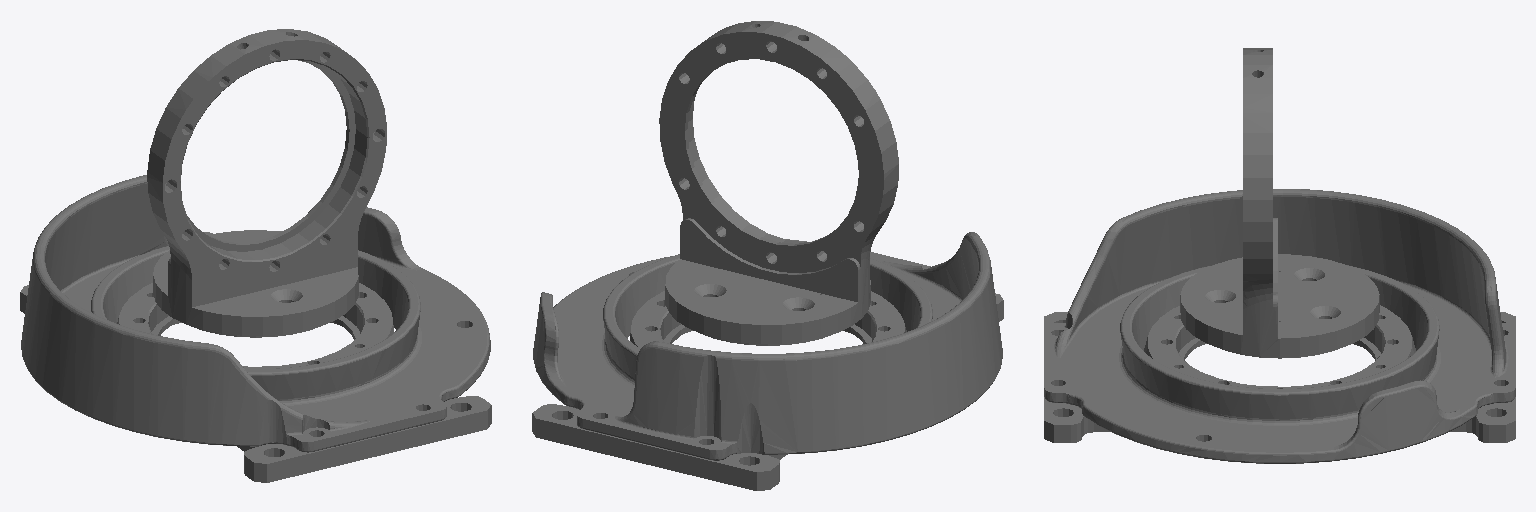
The robot description file, URDF, robot "astribot_head":
<?xml version="1.0" encoding="utf-8"?>
<robot
  name="astribot_head">
  <mujoco>
    <compiler meshdir="./meshes/" balanceinertia="true" discardvisual="false" />
  </mujoco>
  <material name="grey">
    <color rgba="0.5 0.5 0.5 1" />
  </material>
  <link
    name="astribot_head_base_link">
    <inertial>
      <origin
        xyz="-0.00115 0.00054 0.035304"
        rpy="0 0 0" />
      <mass
        value="0.3" />
      <inertia
        ixx="0.000553"
        ixy="4e-06"
        ixz="-1.7e-05"
        iyy="0.000505"
        iyz="8e-06"
        izz="0.000239" />
    </inertial>
    <visual>
      <origin
        xyz="0 0 0"
        rpy="0 0 0" />
      <geometry>
        <mesh
          filename="meshes/t1_head/astribot_head_base_link.STL" />
      </geometry>
      <material name="grey" />
    </visual>
    <collision>
      <origin
        xyz="0 0 0"
        rpy="0 0 0" />
      <geometry>
        <mesh
          filename="meshes/t1_head/astribot_head_base_link.STL" />
      </geometry>
    </collision>
  </link>
  <link
    name="astribot_head_link_1">
    <inertial>
      <origin
        xyz="1.9e-05 0.006577 0.081061"
        rpy="0 0 0" />
      <mass
        value="0.256916" />
      <inertia
        ixx="0.001804"
        ixy="0.0"
        ixz="0.0"
        iyy="0.001812"
        iyz="0.000144"
        izz="8.5e-05" />
    </inertial>
    <visual>
      <origin
        xyz="0 0 0"
        rpy="0 0 0" />
      <geometry>
        <mesh
          filename="meshes/t1_head/astribot_head_link_1.STL" />
      </geometry>
      <material name="grey" />
    </visual>
    <collision>
      <origin
        xyz="0 0 0"
        rpy="0 0 0" />
      <geometry>
        <mesh
          filename="meshes/t1_head/astribot_head_link_1.STL" />
      </geometry>
    </collision>
  </link>
  <joint
    name="astribot_head_joint_1"
    type="revolute">
    <origin
      xyz="0 0 0"
      rpy="0 0 0" />
    <parent
      link="astribot_head_base_link" />
    <child
      link="astribot_head_link_1" />
    <axis
      xyz="0 0 1" />
    <limit
      lower="-1.6"
      upper="1.6"
      effort="15"
      velocity="2" />
  </joint>
  <link
    name="astribot_head_link_2">
    <inertial>
      <origin
        xyz="0.017185 -0.104538 -0.000323"
        rpy="0 0 0" />
      <mass
        value="0.79" />
      <inertia
        ixx="0.01174"
        ixy="-0.001355"
        ixz="1e-06"
        iyy="0.002937"
        iyz="-2.7e-05"
        izz="0.01243" />
    </inertial>
    <visual>
      <origin
        xyz="0 0 0"
        rpy="0 0 0" />
      <geometry>
        <mesh
          filename="meshes/t1_head/astribot_head_link_2.STL" />
      </geometry>
      <material name="grey" />
    </visual>
    <collision>
      <origin
        xyz="0 0 0"
        rpy="0 0 0" />
      <geometry>
        <mesh
          filename="meshes/t1_head/astribot_head_link_2.STL" />
      </geometry>
    </collision>
  </link>
  <joint
    name="astribot_head_joint_2"
    type="revolute">
    <origin
      xyz="0 0 0"
      rpy="-1.5708 0 0" />
    <parent
      link="astribot_head_link_1" />
    <child
      link="astribot_head_link_2" />
    <axis
      xyz="0 0 1" />
    <limit
      lower="-1"
      upper="1"
      effort="15"
      velocity="2" />
  </joint>
</robot>

--- What the picture shows (computed from the rendered views, not written in the file) ---
3 views of the same robot in one strip: view 1: azimuth 30°, elevation 25°; view 2: azimuth 150°, elevation 25°; view 3: azimuth 270°, elevation 25° (orthographic).
Model astribot_head with 3 links and 2 joints (2 revolute), rooted at astribot_head_base_link, posed all joints at 0.
Visible links, largest first — view 1: astribot_head_base_link, astribot_head_link_1; view 2: astribot_head_base_link, astribot_head_link_1; view 3: astribot_head_base_link, astribot_head_link_1.
Boxes of the visible links, <box> form: astribot_head_base_link: <box>20,175,491,482</box>; astribot_head_link_1: <box>147,29,386,337</box>; astribot_head_base_link: <box>532,232,1003,490</box>; astribot_head_link_1: <box>659,21,898,345</box>; astribot_head_base_link: <box>1044,189,1515,463</box>; astribot_head_link_1: <box>1180,48,1379,358</box>.
Bounding box of the posed robot: 0.0958 × 0.0992 × 0.076 m (x, y, z).
2 mesh visuals loaded from 3 distinct referenced files (2 binary STL); not drawn: 1 (reference not matched to a file when rendering).
